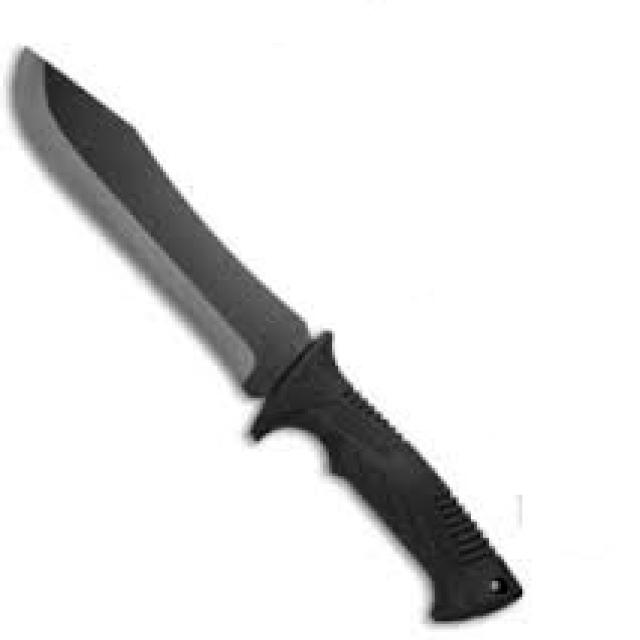knife: (13, 47, 533, 628)
